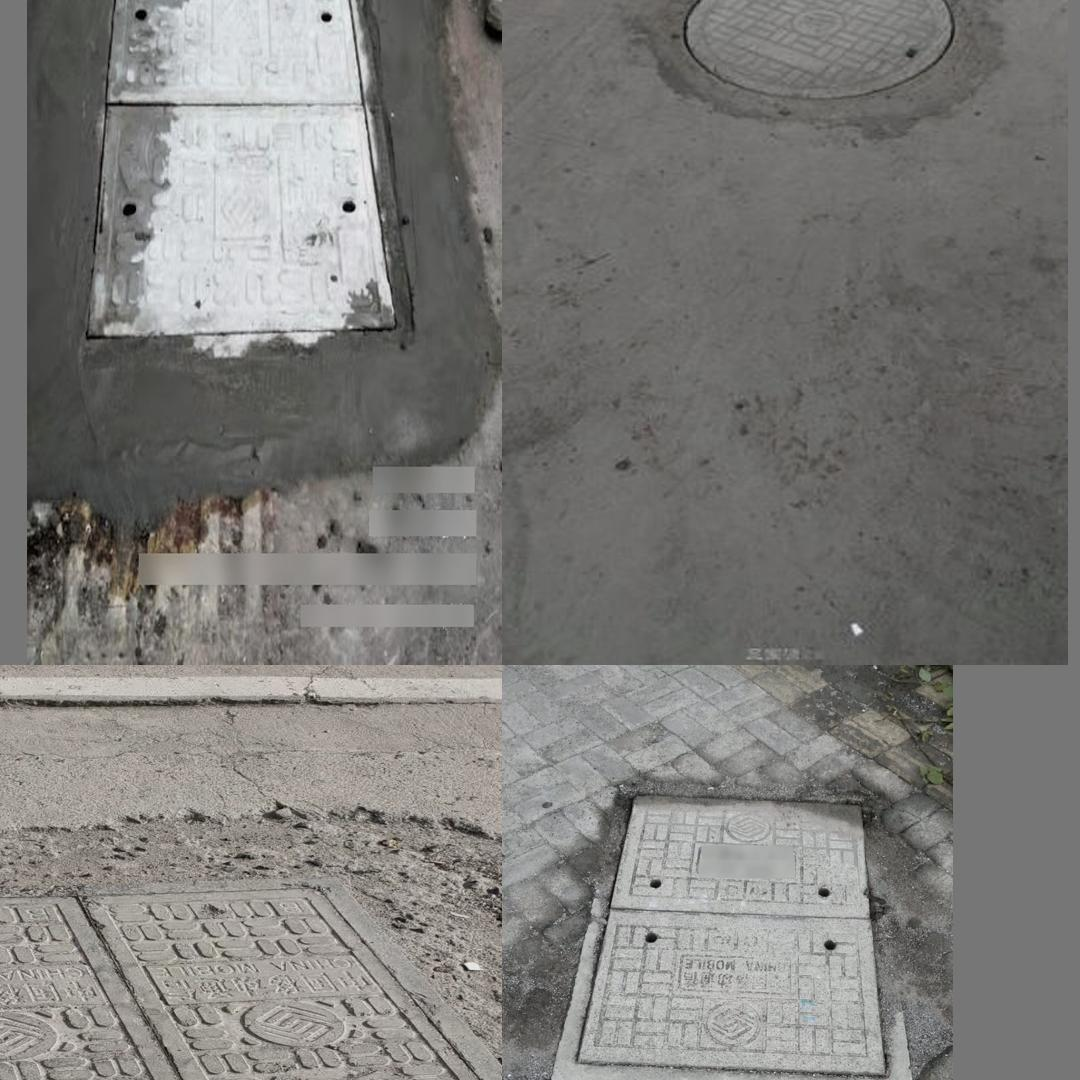good: (80, 0, 414, 352), (550, 779, 912, 1080), (0, 875, 502, 1080), (617, 0, 1017, 141)
